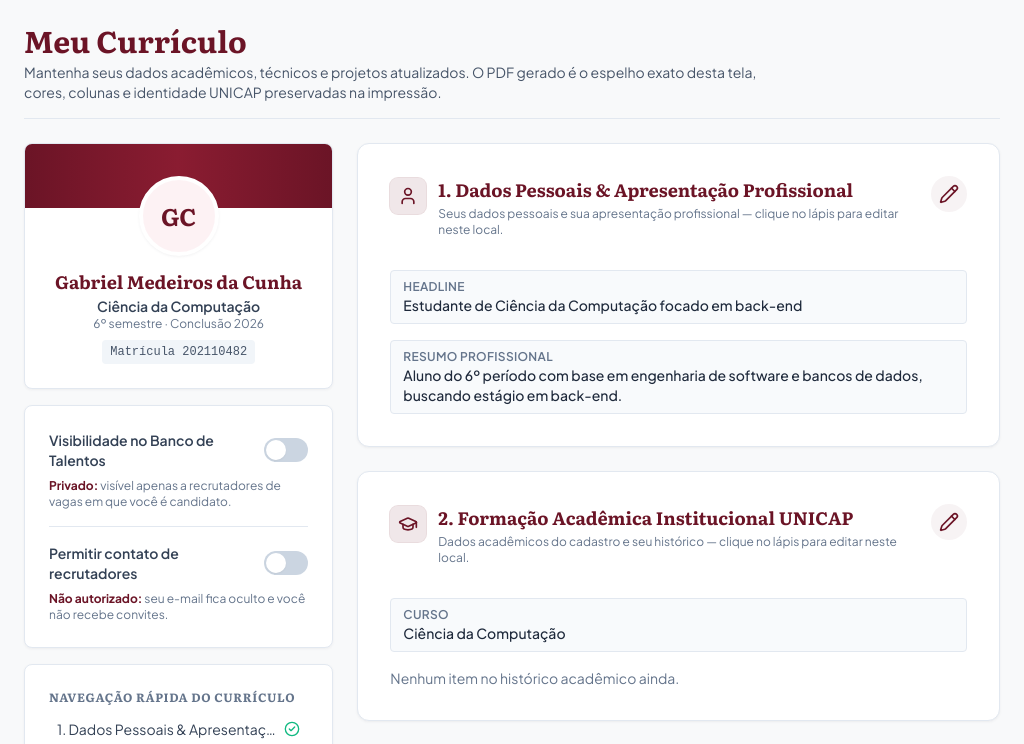
Test: ResumeBuilderPage — main com os 7 blocos (Etapa 2.2) › bloco 1 nasce em visualização; o lápis abre headline e resumo
Click the button named "Editar Dados Pessoais" at (949, 194), box [931,176,967,212]
(page scrolled)
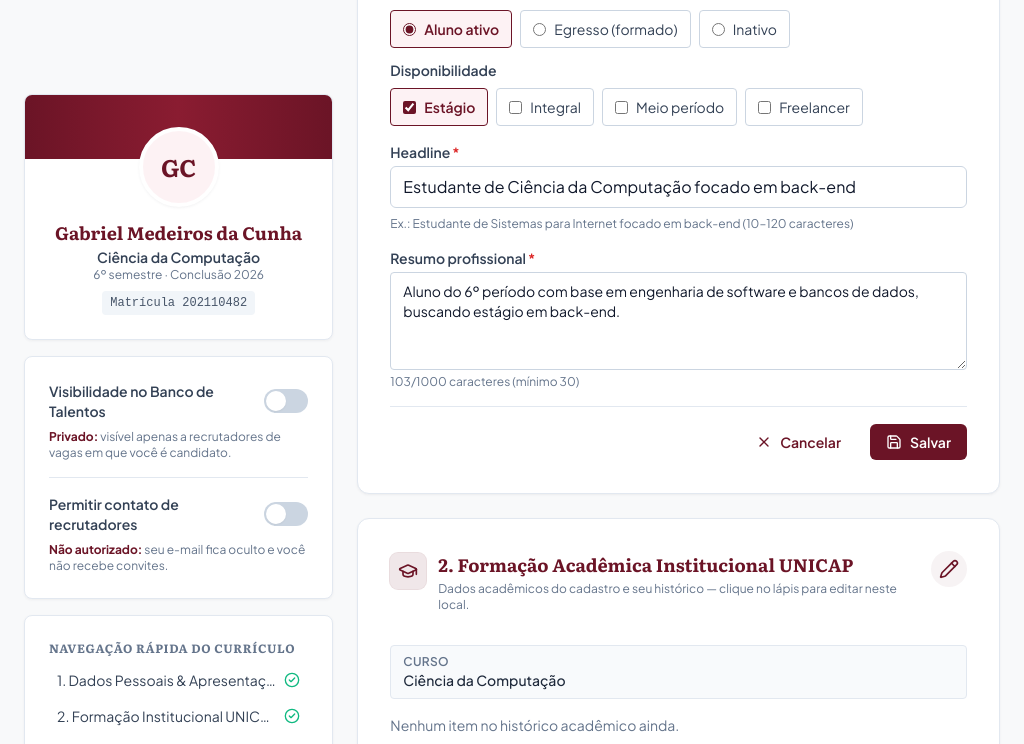
Check: the field labelled "Headline*" is shown, box [390,166,967,208]
Check: the text box labelled "Resumo profissional*" is shown, box [390,272,967,370]
Check: the text "103/1000 caracteres (mínimo 30)" is shown, box [390,374,579,389]
